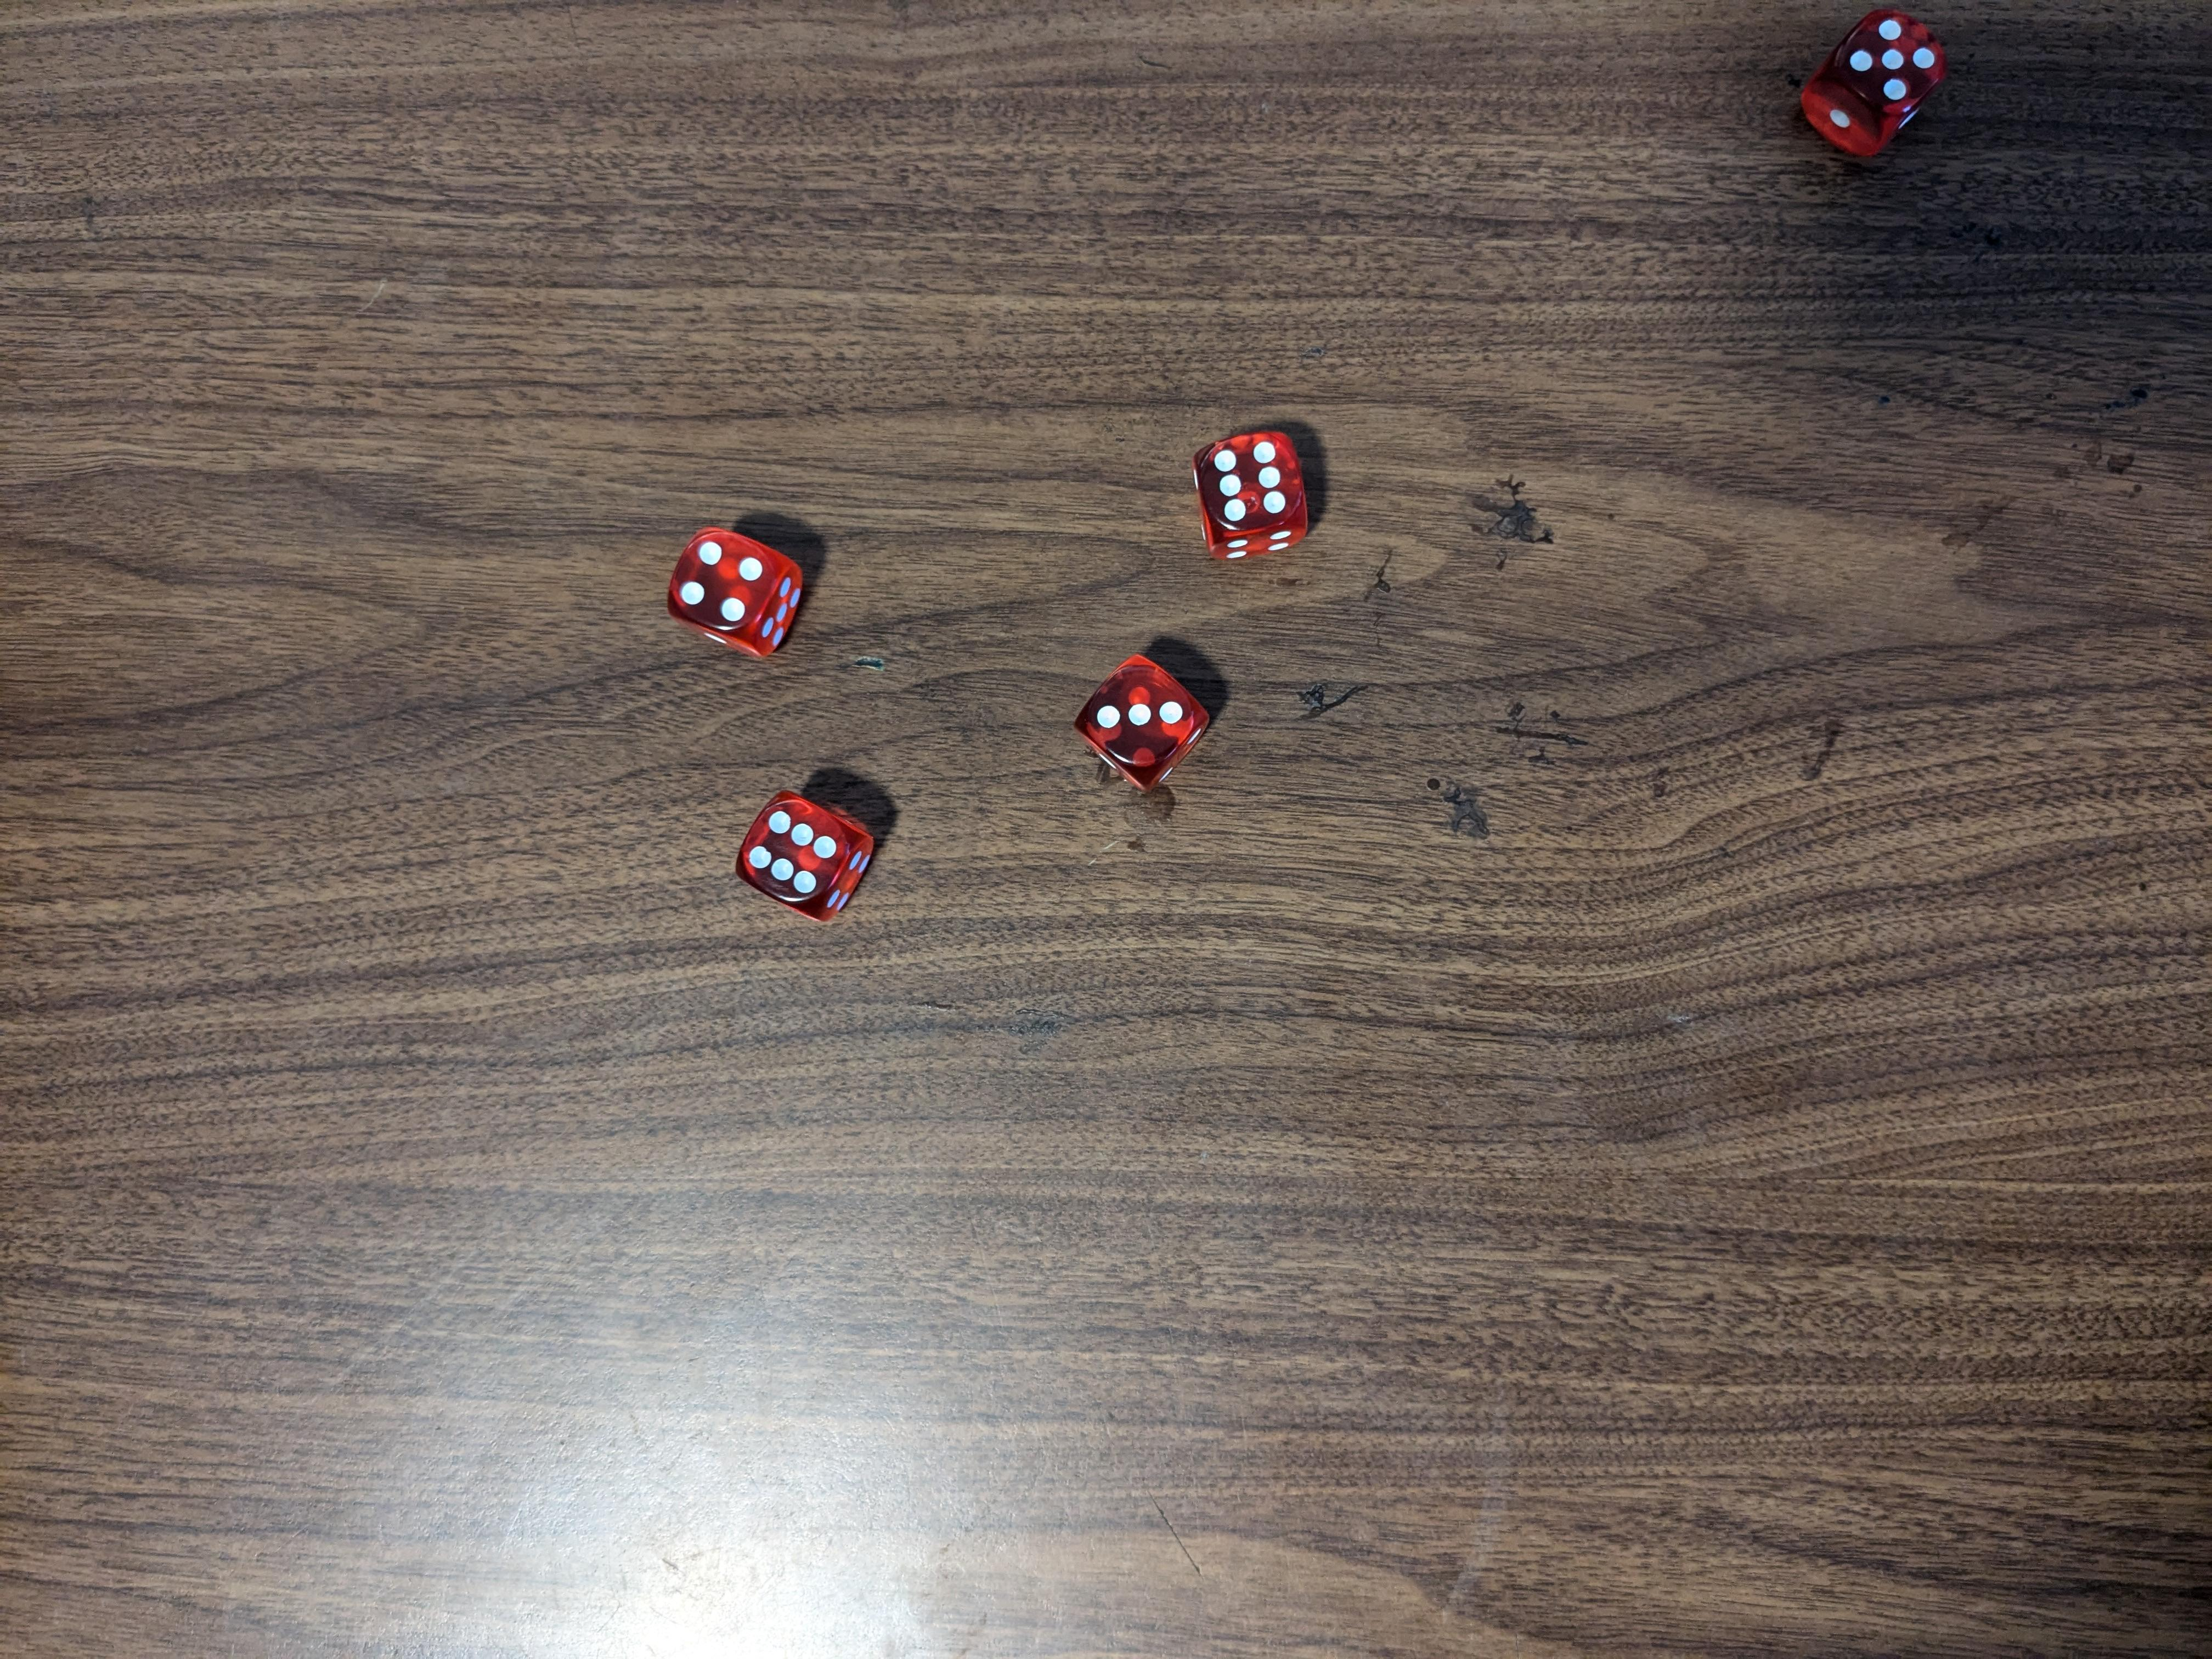five: (1784, 9, 1959, 164)
four: (669, 526, 803, 659)
six: (730, 788, 883, 917), (1193, 423, 1315, 568)
three: (1078, 645, 1207, 786)
